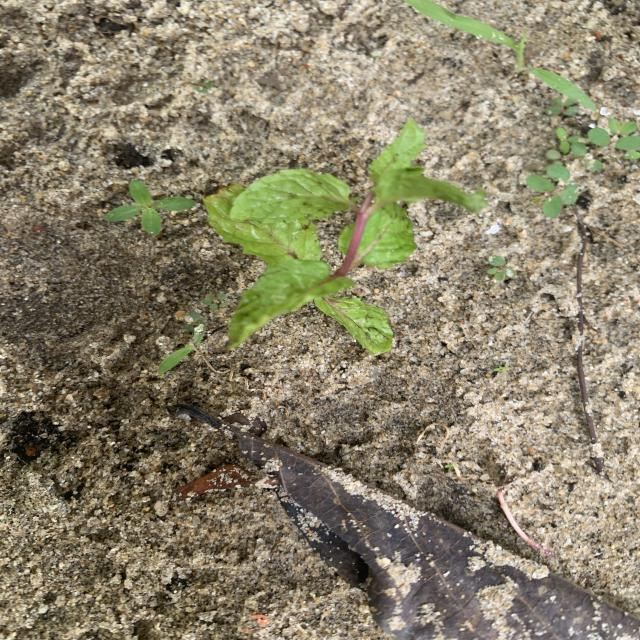crop: (205, 118, 483, 353)
weed: (405, 0, 596, 110), (104, 181, 195, 235), (551, 116, 639, 171), (525, 159, 578, 217), (158, 332, 203, 375), (487, 255, 516, 279), (546, 97, 577, 118), (201, 293, 226, 311), (492, 365, 510, 374)
